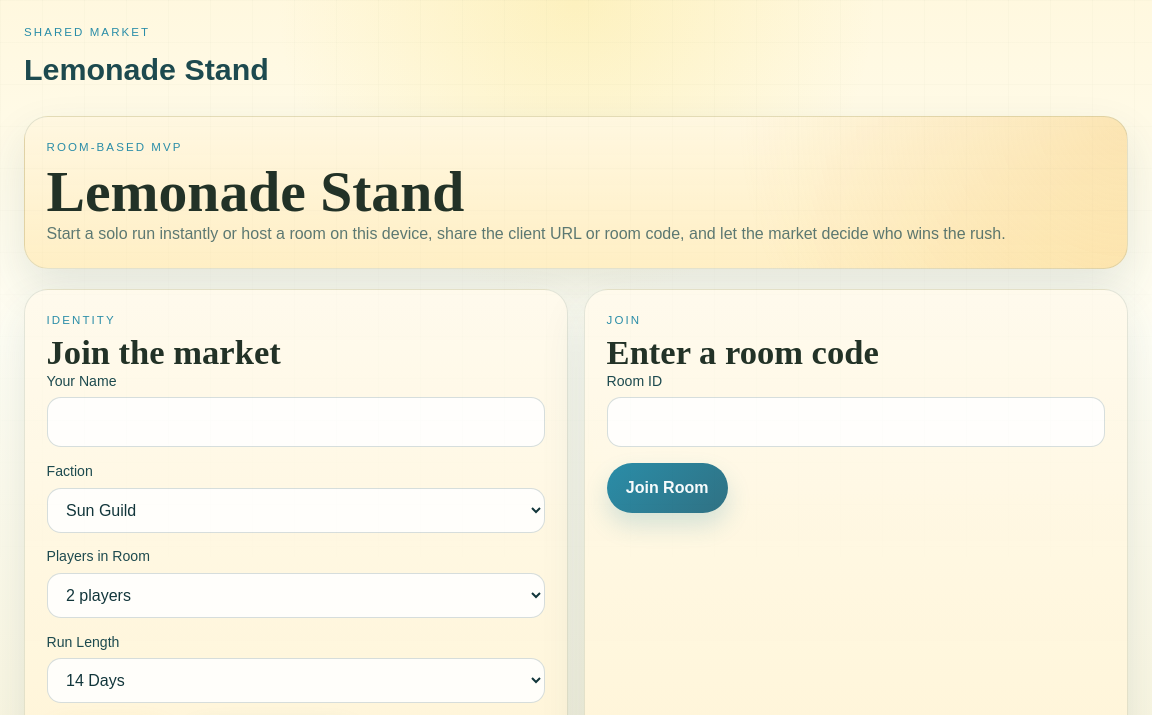
Test case: App › shows the hint upgrade as unaffordable until the player has enough cash
In the field labelled "Your Name": (296, 422) [47,397,545,447], type "Alex"
(page scrolled)
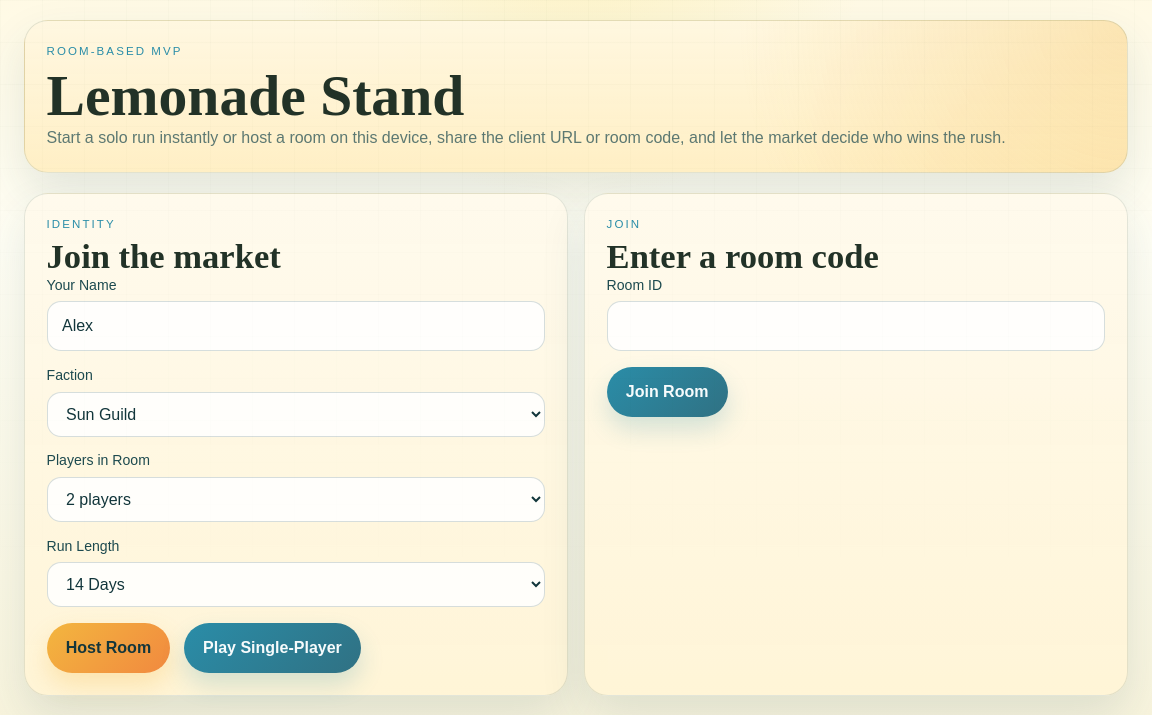
Click the button "Host Room": (108, 648) [47,623,170,673]
(page scrolled)
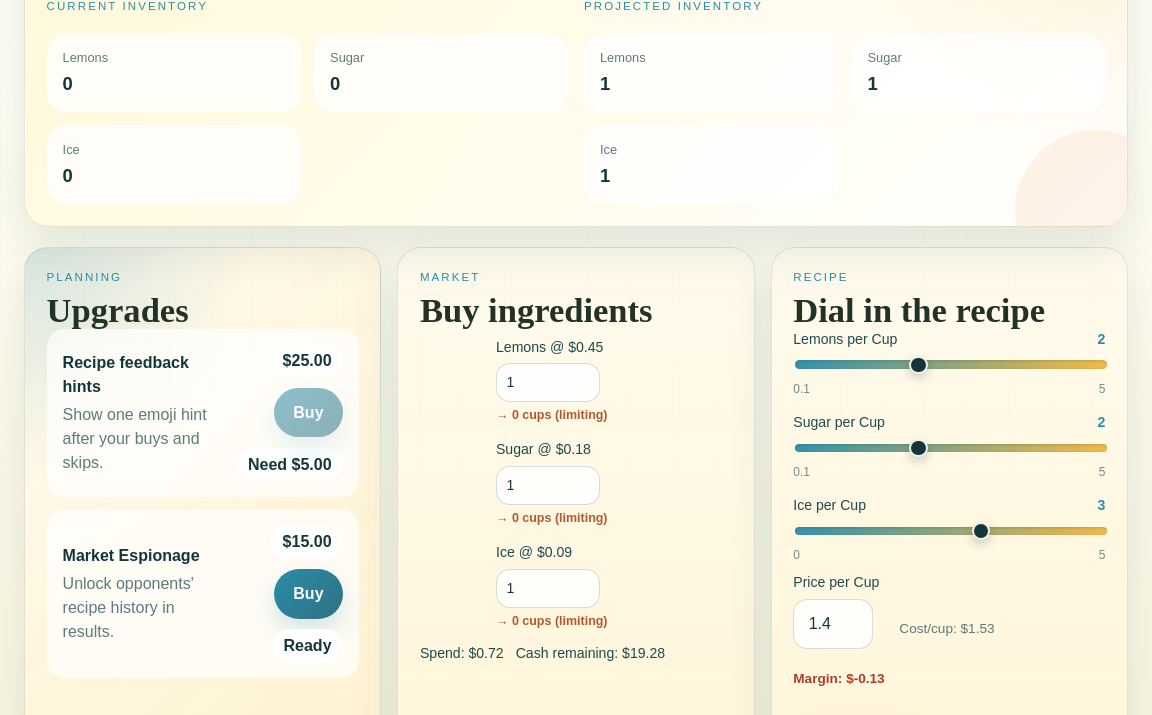
Check: the heading "Upgrades" is shown, box [47,291,189,329]
Check: the text "Show one emoji hint after your buys and skips." is shown, box [63,402,209,474]
Check: the text named "recipe feedback hints status: need $5.00" is shown, box [237,448,343,481]
